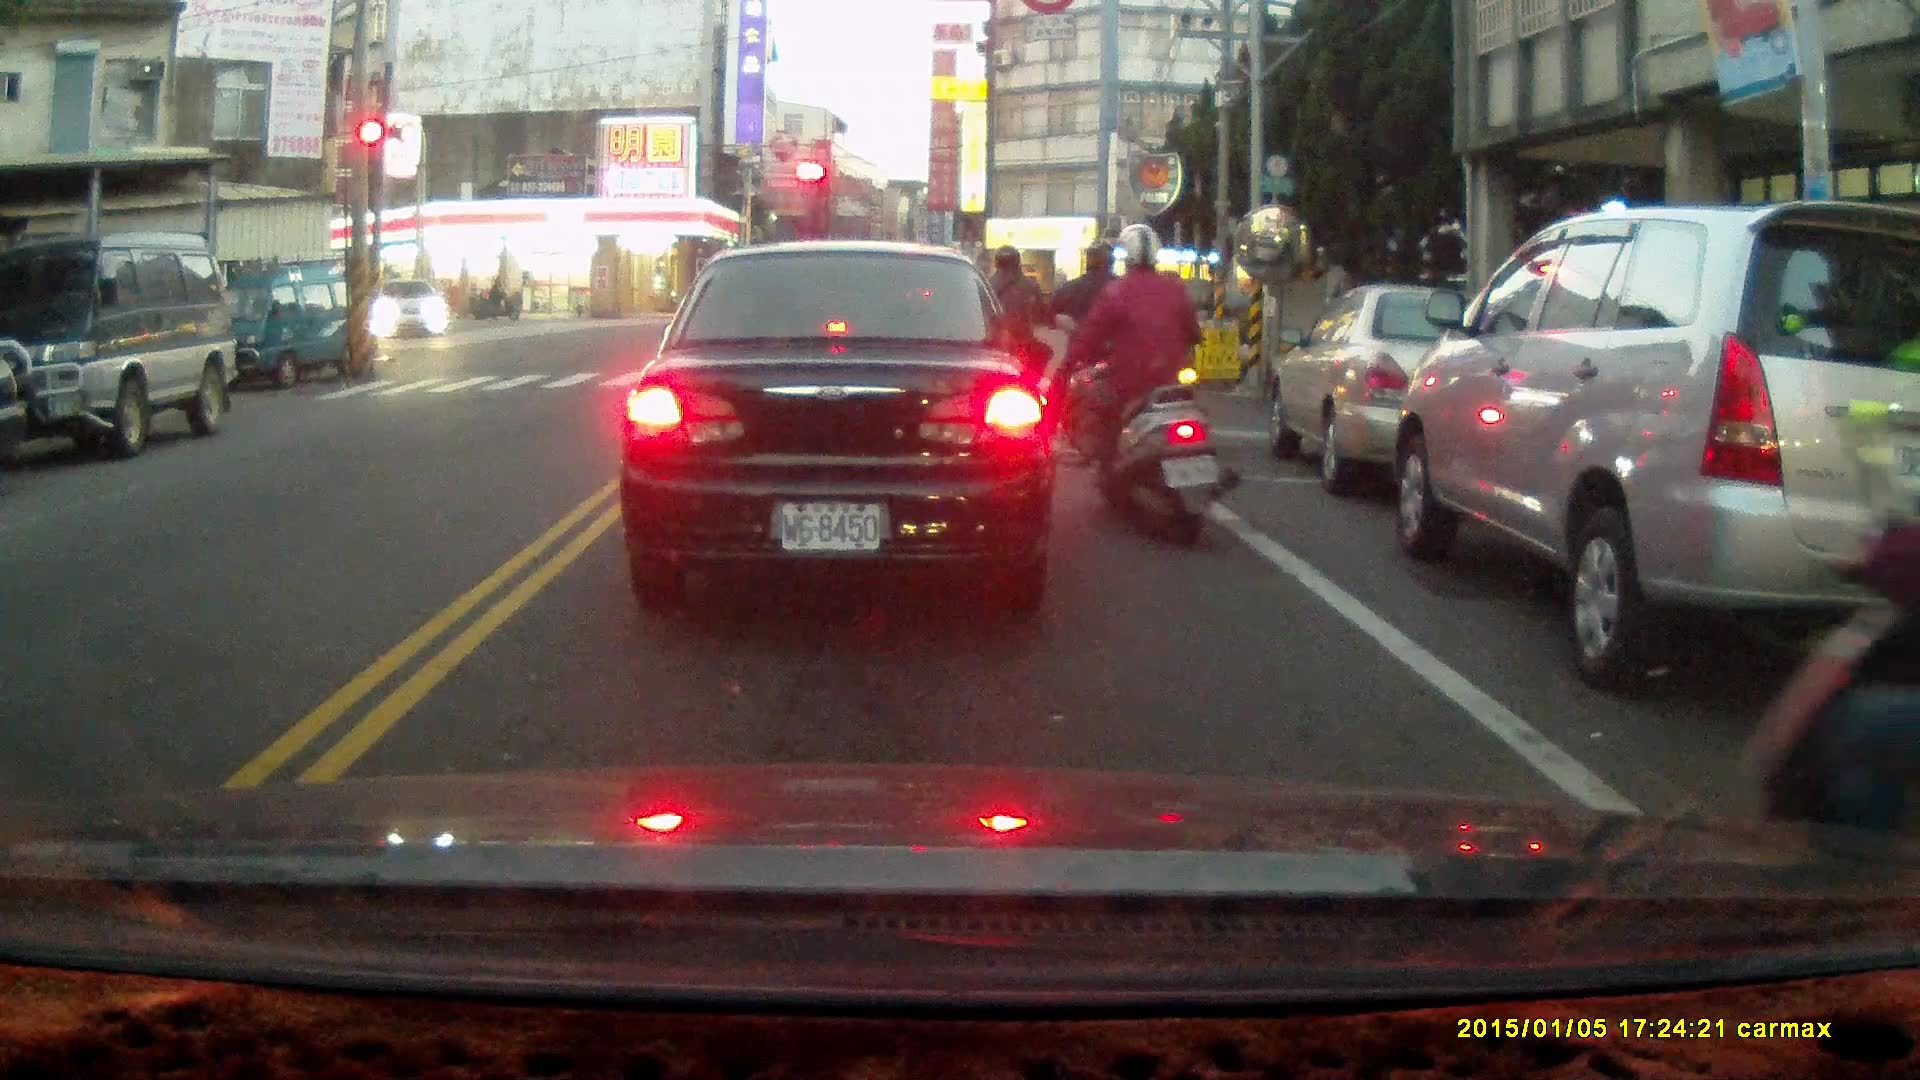rider: (1739, 398, 1919, 913), (1057, 222, 1240, 552), (1048, 242, 1141, 468), (960, 239, 1057, 433), (473, 279, 518, 321)
vehicle: (1383, 199, 1919, 692), (617, 243, 1061, 606), (1264, 286, 1565, 499), (1, 234, 239, 458), (194, 255, 381, 393), (372, 277, 451, 343)
